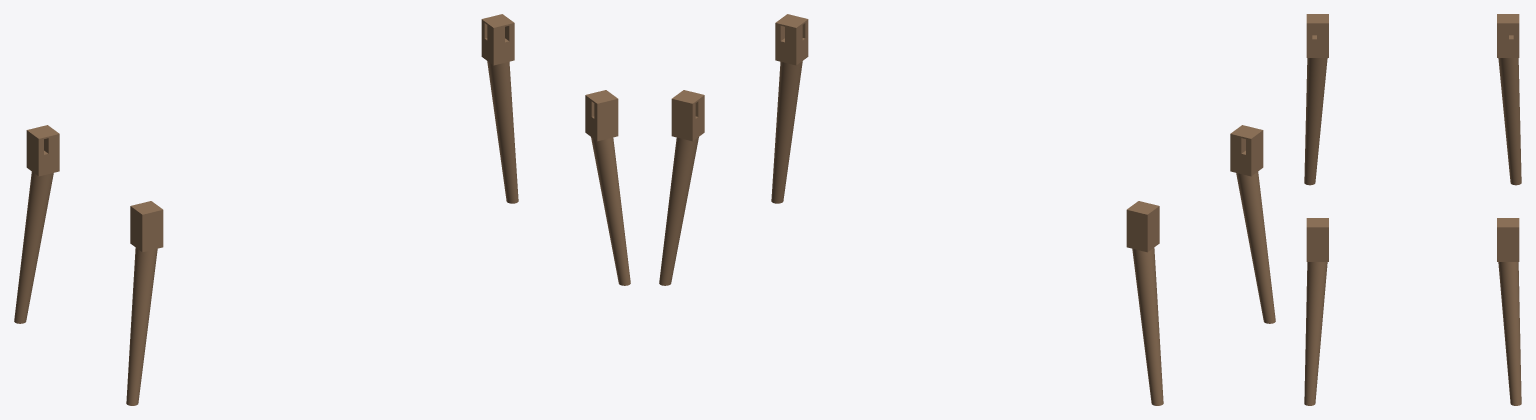
The model's file is Legs_Splayed.glb.
3 views of the same model, side by side, from view 1: azimuth 30°, elevation 25°; view 2: azimuth 150°, elevation 25°; view 3: azimuth 270°, elevation 25° (orthographic). The views are drawn at different scales.
Visible parts, largest first — view 1: Legs_Splayed; view 2: Legs_Splayed; view 3: Legs_Splayed.
Part boxes in pixels (x1,y1,x2,y2): Legs_Splayed: (14,14,630,405); Legs_Splayed: (659,14,1275,405); Legs_Splayed: (1304,14,1521,405).
Size of the model in its own units: 1.07 by 0.381 by 0.4347.
